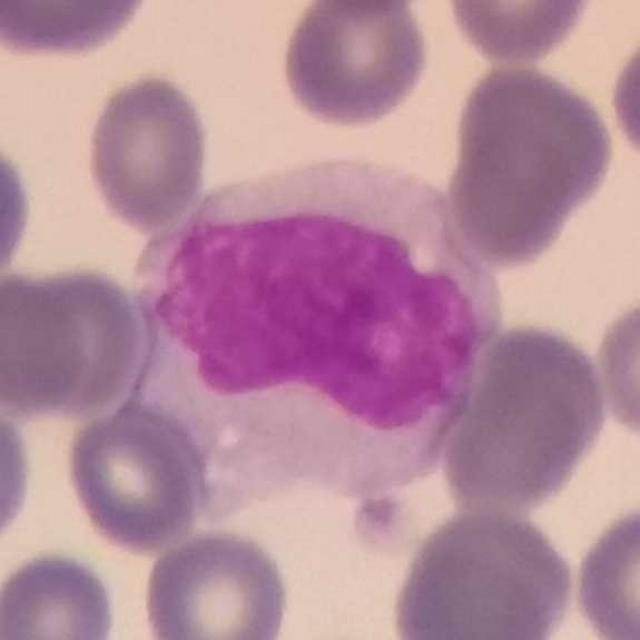Monocyte: (124, 154, 506, 502)
Platelets: (351, 486, 420, 554)
RBC: (443, 58, 619, 267), (436, 318, 614, 516), (385, 504, 580, 640), (60, 402, 209, 556), (80, 68, 215, 233), (275, 0, 435, 134), (137, 524, 295, 640), (46, 273, 140, 425), (0, 545, 121, 639), (0, 278, 83, 411), (440, 0, 600, 68), (569, 497, 640, 640), (0, 0, 158, 61), (591, 287, 640, 452), (0, 125, 38, 292), (0, 392, 37, 556), (605, 13, 640, 176)
